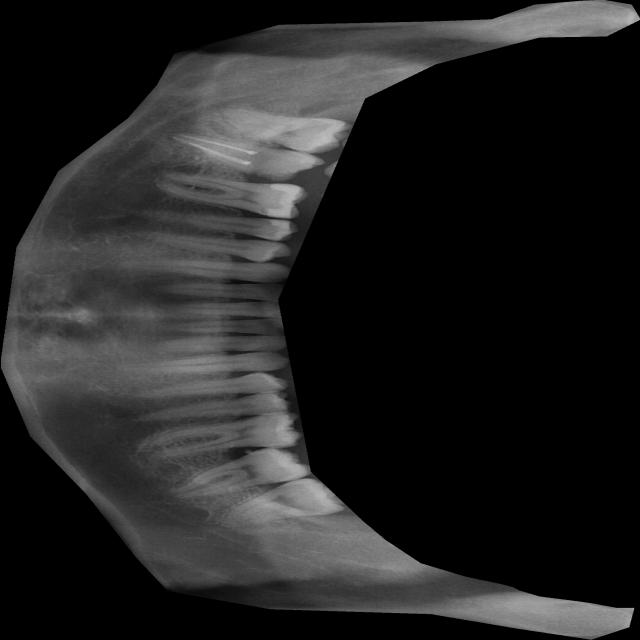mandibula: (0, 0, 640, 640)
